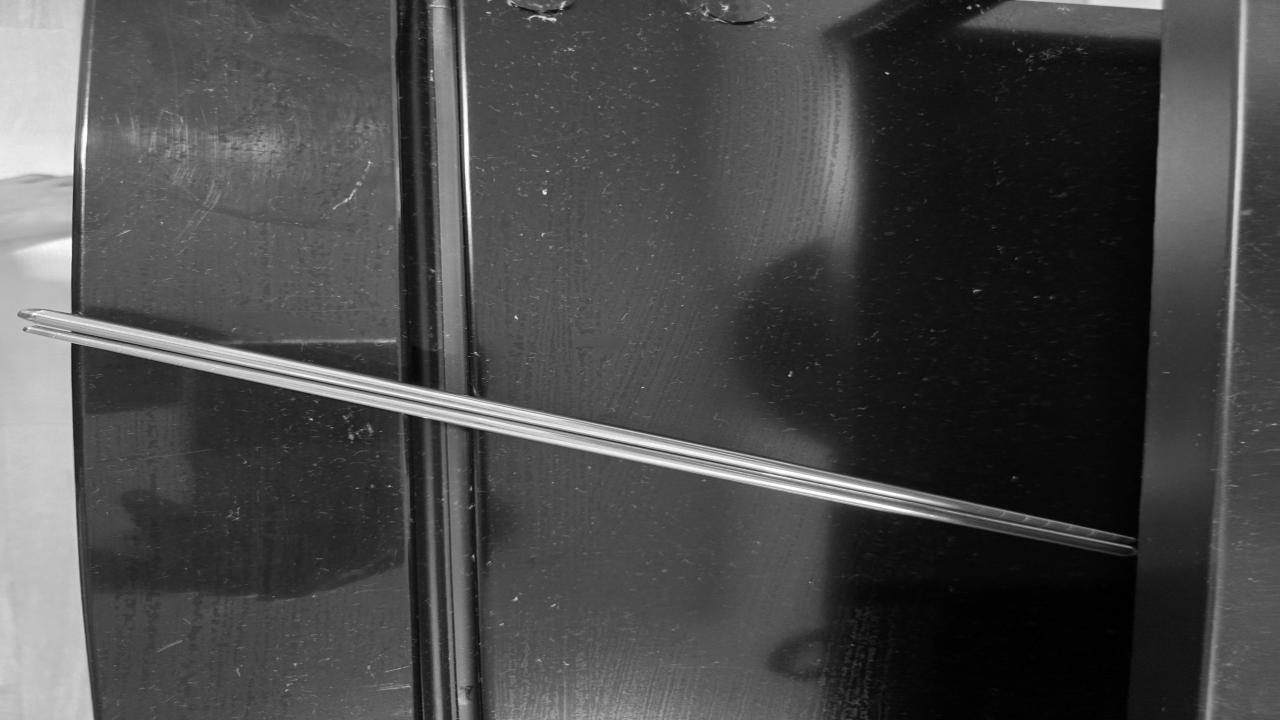chopstick: (9, 298, 1144, 573)
